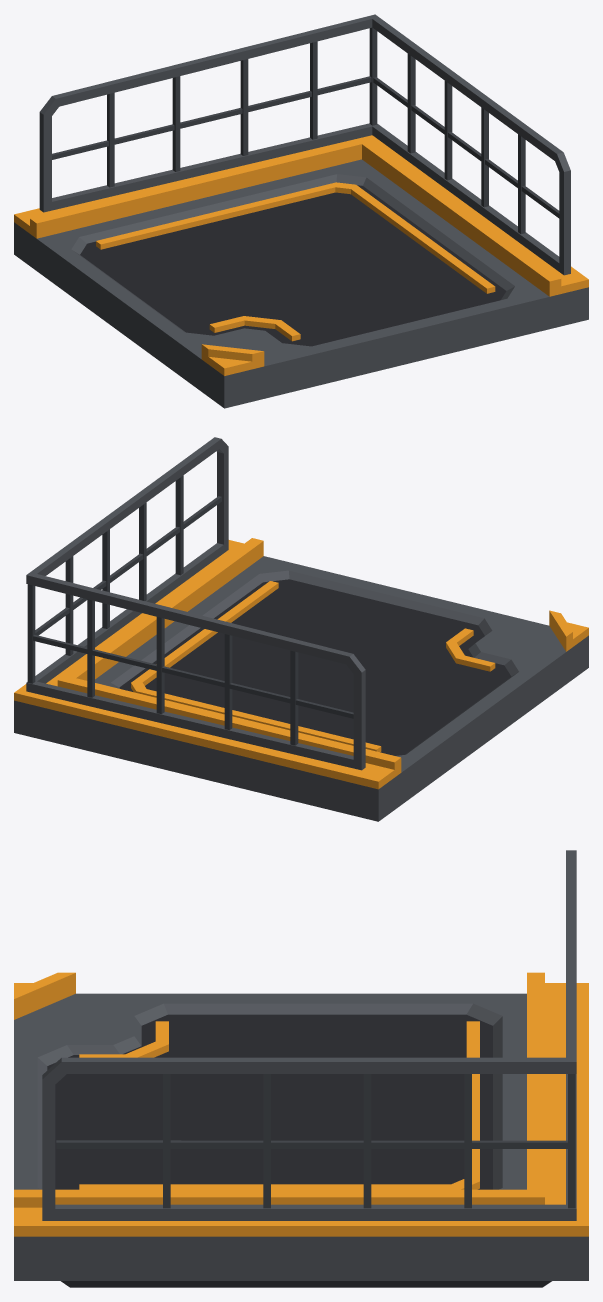
Rendered from SM_rotary_platform.glb.
3 renders of one model, top to bottom at view 1: azimuth 30°, elevation 25°; view 2: azimuth 150°, elevation 25°; view 3: azimuth 270°, elevation 25°, orthographic. The views are drawn at different scales.
Parts seen in each view (by area): view 1: SM_rotary_platform; view 2: SM_rotary_platform; view 3: SM_rotary_platform.
Part boxes in pixels (x1=…): SM_rotary_platform: x1=14, y1=14, x2=588, y2=408; SM_rotary_platform: x1=14, y1=437, x2=588, y2=821; SM_rotary_platform: x1=14, y1=850, x2=588, y2=1287.
Bounding box in the file's own units: 4 × 1.77 × 4.
1 material, 1 textured.
